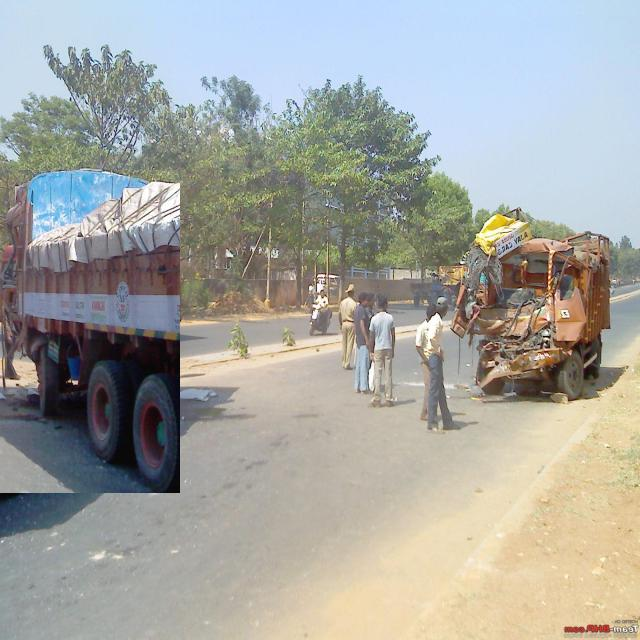accident: (0, 170, 180, 493), (451, 215, 610, 398)
